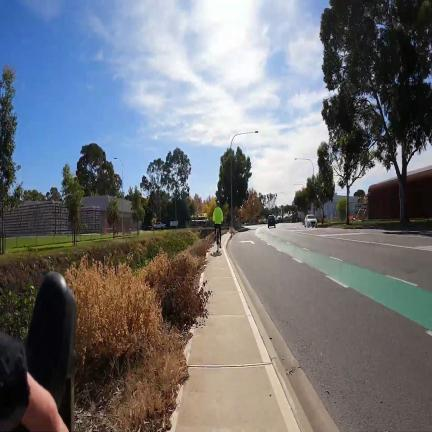Green_Bike_Lane: (257, 233, 432, 330)
